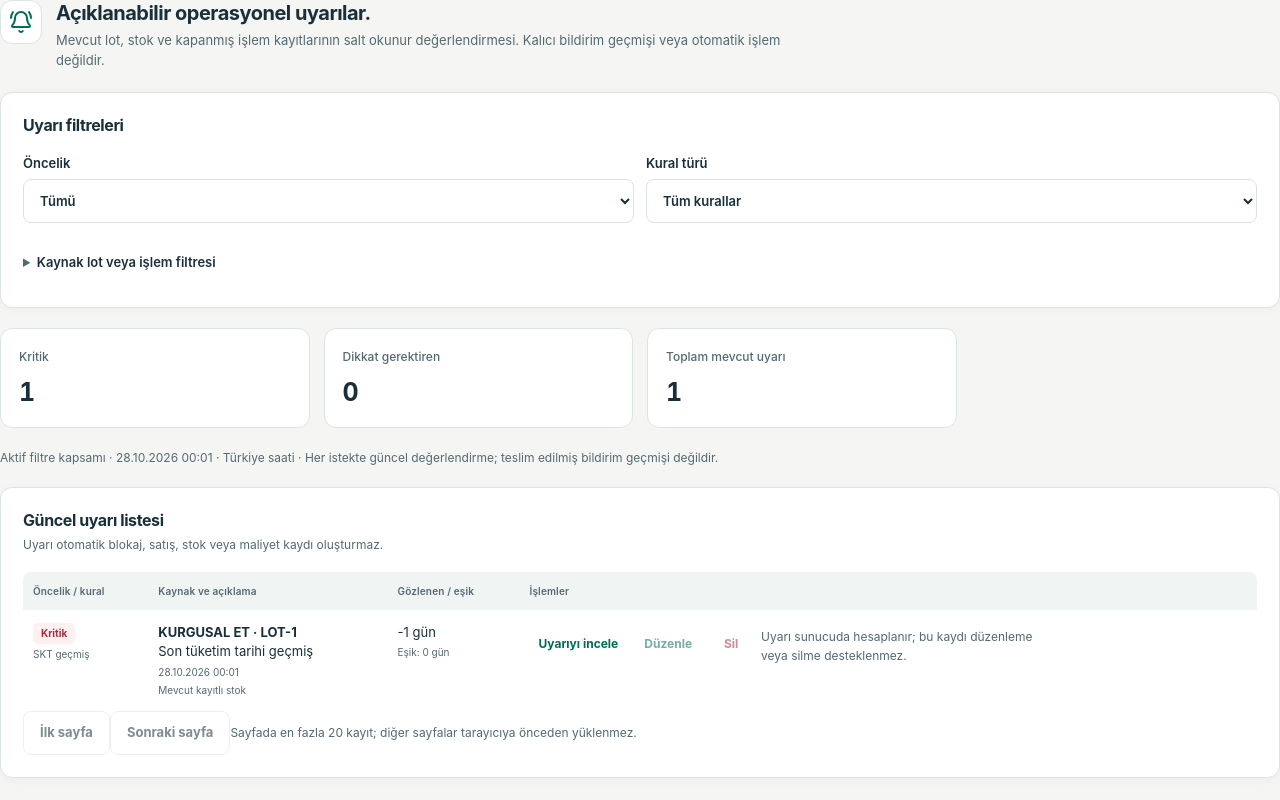
Test case: liste ve detay yalnız GET kullanır; filtreler sunucuya gider ve tek sayfa yüklenir
The image size is (1280, 800).
expect the text "KURGUSAL ET · LOT-1" is shown: met, box [158,624,297,640]
Select "Kritik" in the dropdown labelled "Öncelik" at (328, 201), box [23,179,634,223]
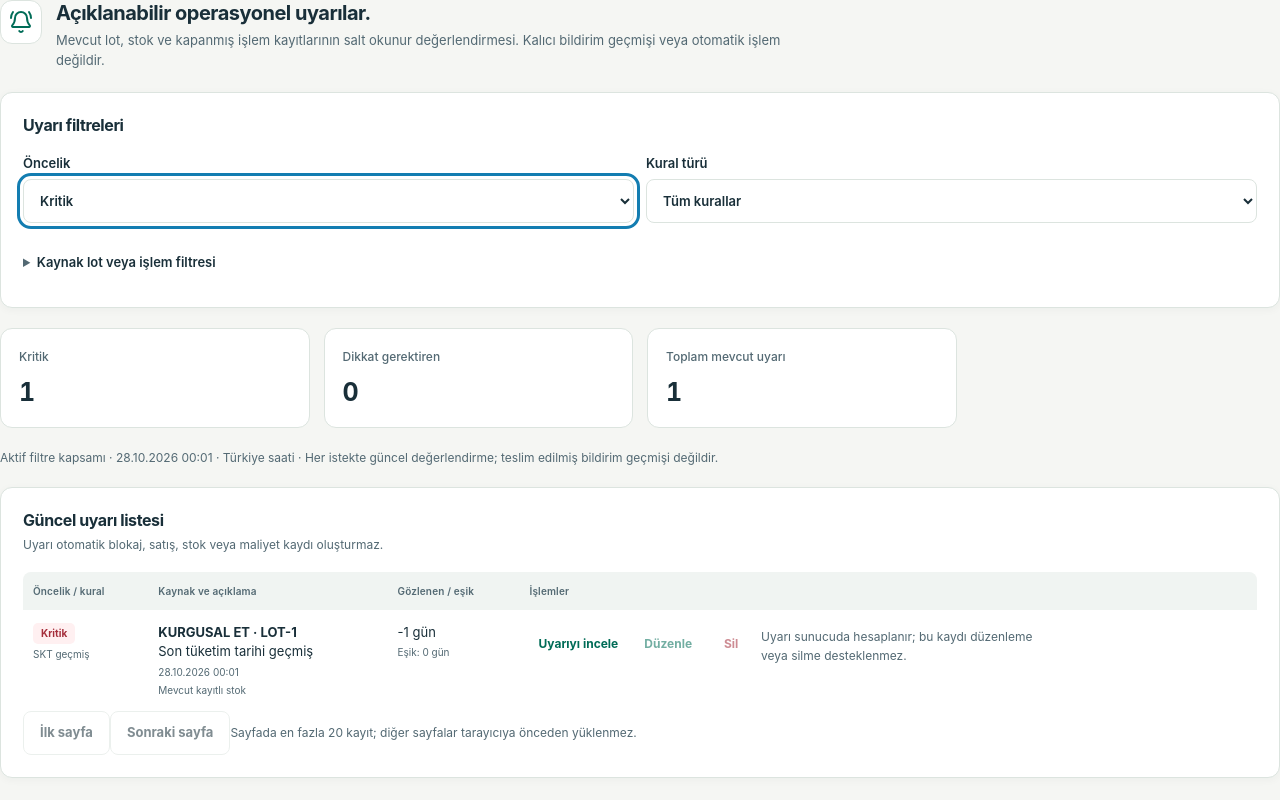
Click the button "Uyarıyı incele" at (578, 644), box [530,622,627,666]
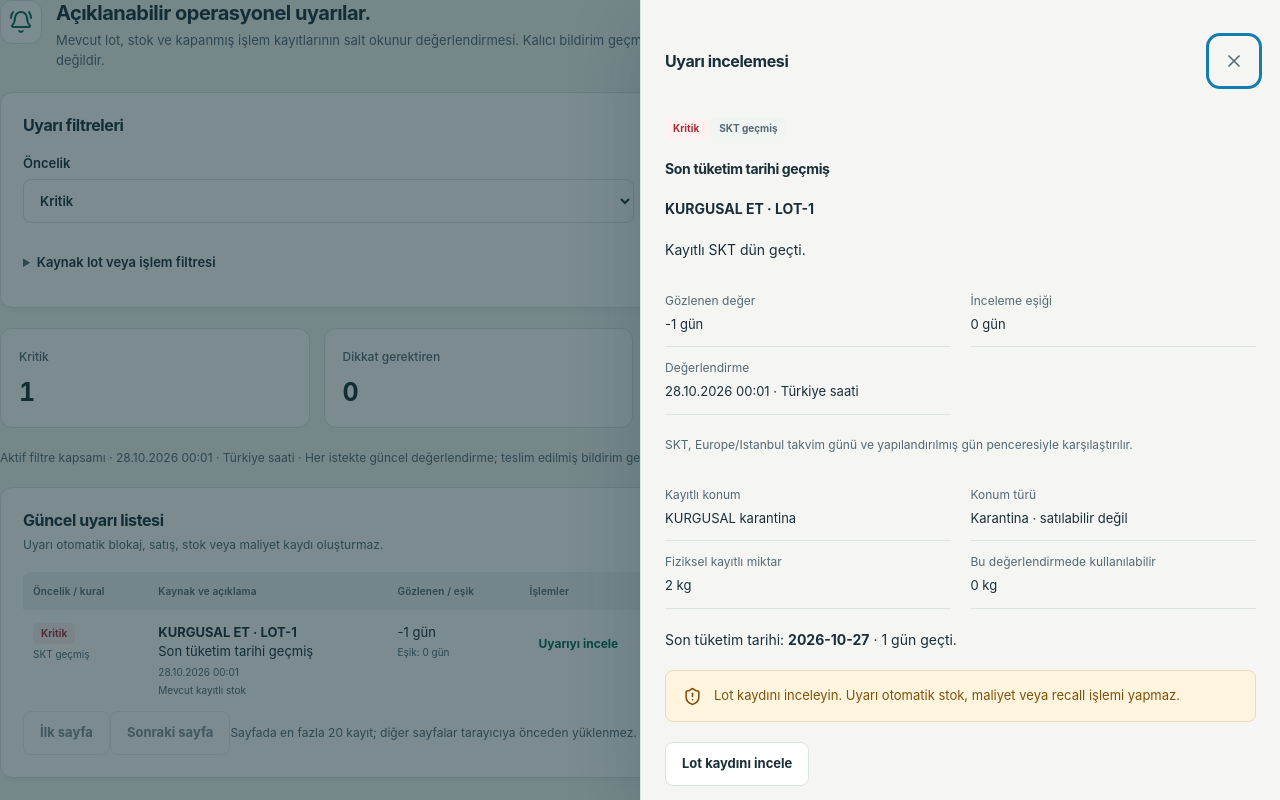
expect the dialog shows "Kayıtlı SKT dün geçti.": met, box [665,241,806,258]
